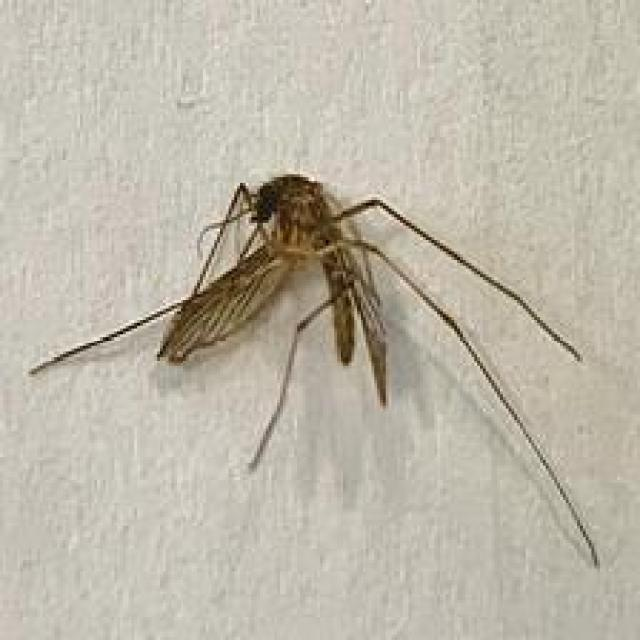Culex: (27, 172, 602, 568)
